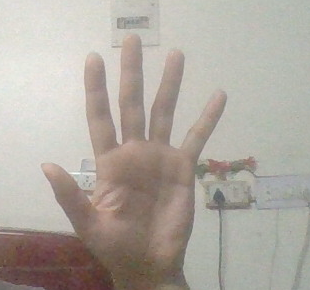move: (38, 32, 221, 282)
